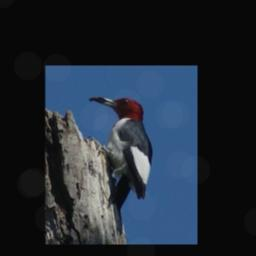Woodpecker: (89, 95, 152, 235)
